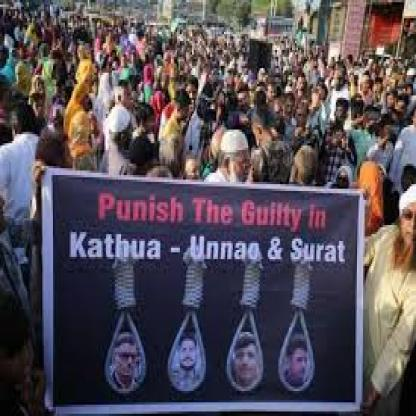BANNER: (26, 168, 368, 416)
